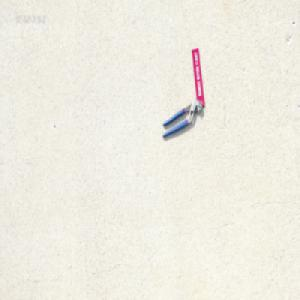Label: (191, 46, 204, 106)
Pliers: (160, 98, 202, 138)
